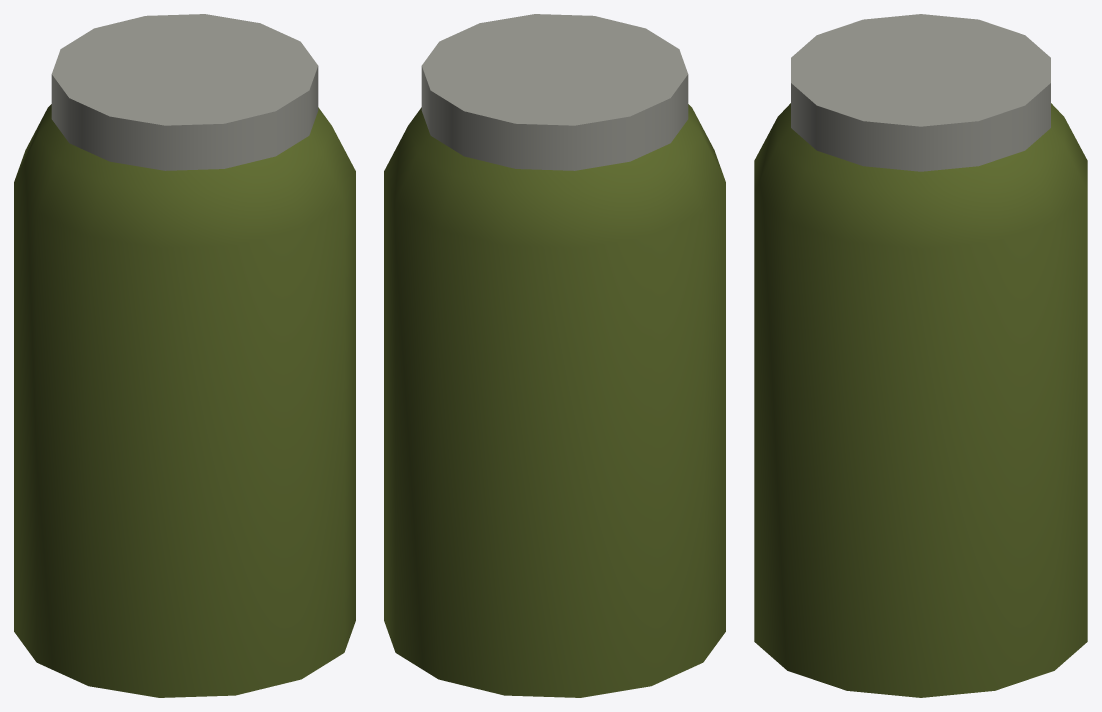
The model's file is tpl_dispensa_vaso_l_olive.glb.
3 views of the same model, side by side, from view 1: azimuth 30°, elevation 25°; view 2: azimuth 150°, elevation 25°; view 3: azimuth 270°, elevation 25° (orthographic).
Parts seen in each view (by area): view 1: tpl_dispensa_vaso_l_olive; view 2: tpl_dispensa_vaso_l_olive; view 3: tpl_dispensa_vaso_l_olive.
Boxes of the visible parts, x1,y1,x2,y2 form: tpl_dispensa_vaso_l_olive: [14, 14, 355, 697]; tpl_dispensa_vaso_l_olive: [384, 14, 725, 697]; tpl_dispensa_vaso_l_olive: [754, 14, 1087, 697].
Bounding box in the file's own units: 0.14 × 0.2509 × 0.1365.
